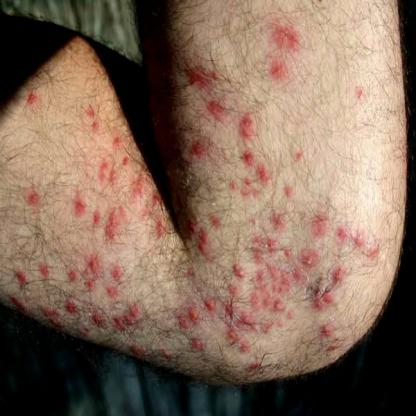Fire ant: (251, 272, 349, 312), (262, 25, 300, 84), (200, 287, 249, 331), (228, 148, 269, 198), (182, 210, 222, 260), (180, 60, 219, 94), (250, 312, 294, 340), (102, 203, 124, 245), (112, 304, 138, 338), (249, 238, 276, 268), (218, 331, 250, 356), (150, 189, 166, 238), (318, 324, 342, 356), (83, 254, 101, 294), (105, 264, 123, 302), (97, 158, 118, 190), (184, 138, 212, 162), (175, 306, 199, 334), (20, 186, 42, 216), (128, 174, 146, 206), (40, 304, 62, 330), (204, 101, 228, 124), (85, 102, 101, 136), (310, 212, 328, 240), (237, 115, 255, 142), (72, 188, 86, 222), (6, 296, 32, 314), (300, 248, 320, 268), (128, 344, 149, 362), (91, 308, 107, 331), (23, 91, 39, 113), (334, 224, 350, 246), (63, 296, 78, 318), (352, 228, 366, 249), (350, 87, 366, 105), (188, 340, 206, 356), (64, 268, 78, 288), (245, 360, 263, 375), (37, 263, 51, 282), (229, 264, 245, 280), (90, 208, 101, 231), (14, 270, 28, 288), (292, 149, 306, 167), (272, 214, 285, 233), (109, 132, 121, 152), (367, 242, 379, 262), (185, 265, 197, 283), (159, 345, 172, 361), (282, 186, 294, 202), (74, 326, 88, 338), (248, 216, 260, 230), (138, 209, 148, 225), (282, 245, 292, 261), (120, 155, 130, 169)
